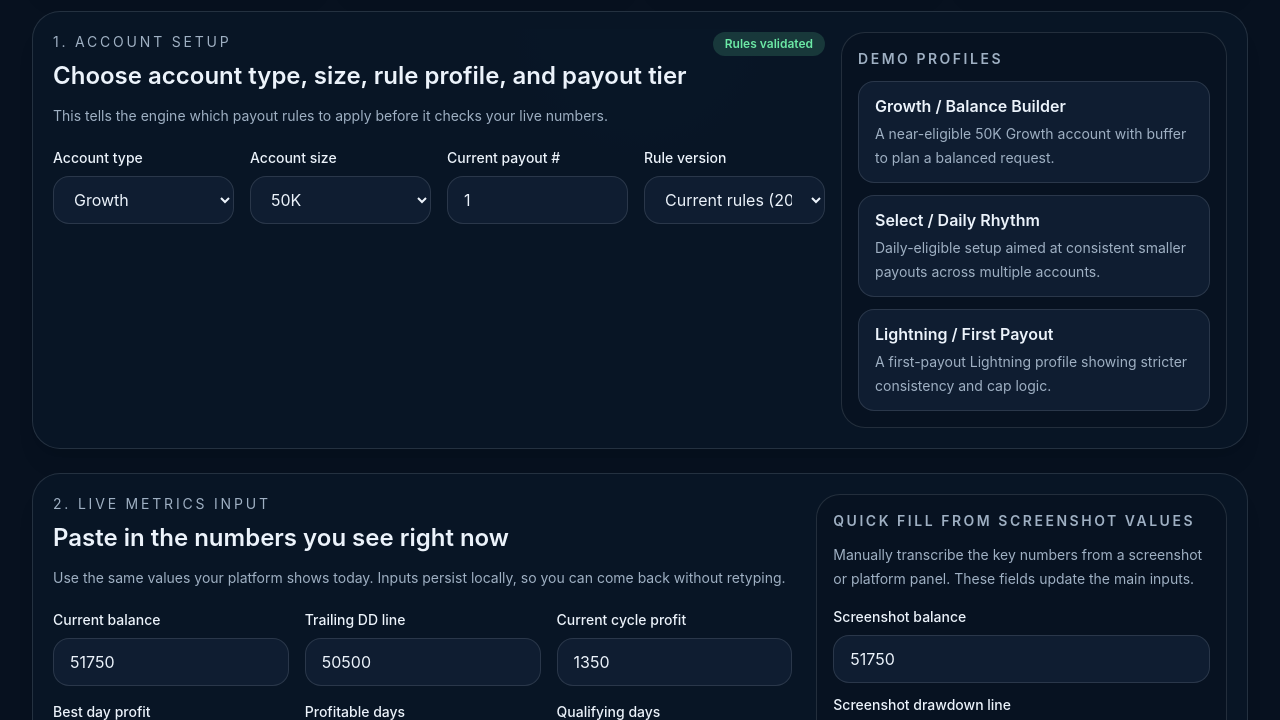
Test: TradeifyCalculatorApp › loads a demo profile and exposes Lightning payout details
(page scrolled)
Click the button "Lightning / First Payout".
click(1034, 360)  # box [858,309,1210,411]
(page scrolled)
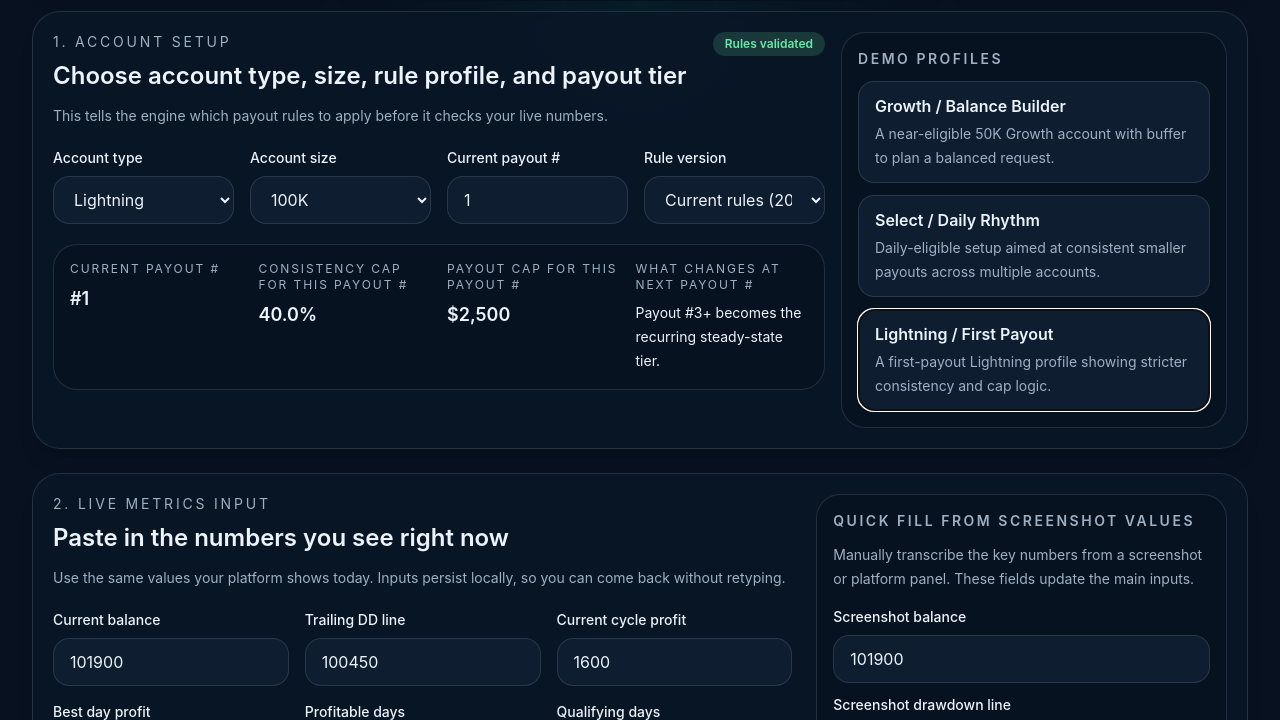
Expected: the number field showing "1" is shown, [447,176,628,224]
Now the text "Payout cap for this payout #" is shown, box [447,261,620,293]
